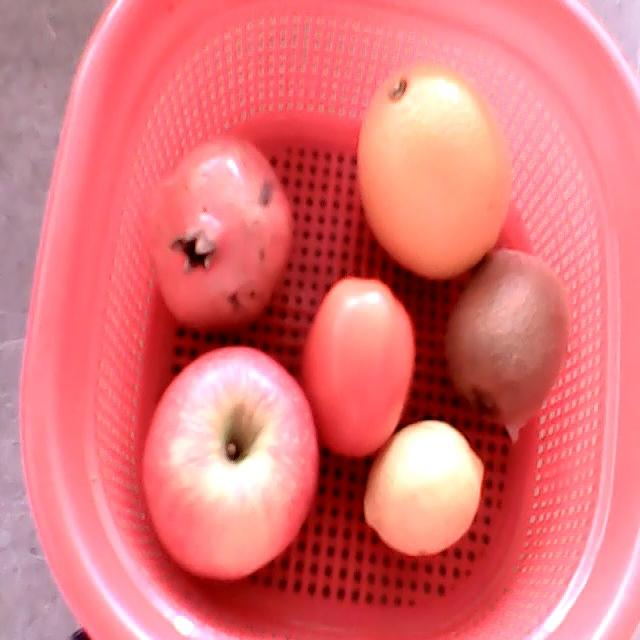apple: (143, 346, 320, 579)
kiwi: (443, 247, 569, 425)
lemon: (361, 419, 485, 557)
orange: (354, 61, 514, 279)
pomegranate: (147, 138, 291, 330)
tomato: (300, 276, 415, 458)
